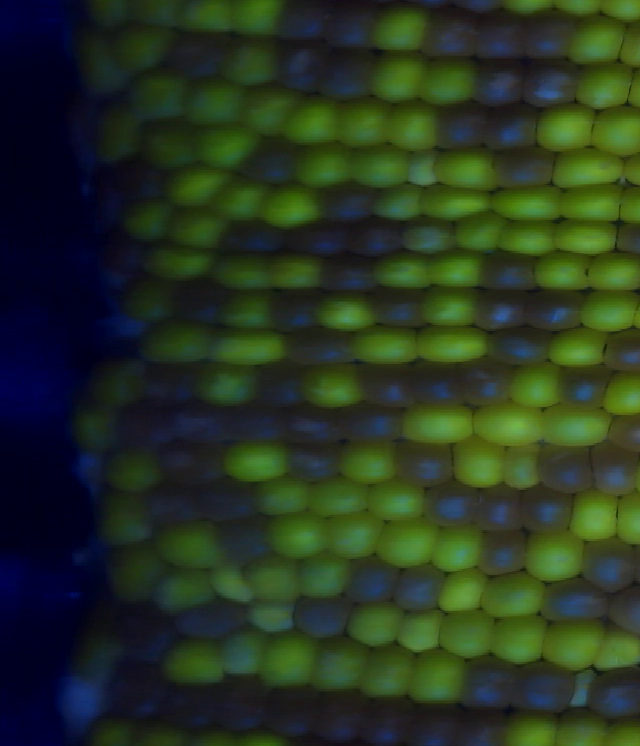fluorescent: (134, 321, 220, 366), (69, 24, 121, 98), (107, 538, 161, 605), (215, 36, 283, 88), (72, 607, 119, 681), (522, 526, 586, 580), (540, 403, 614, 449), (546, 149, 627, 190), (207, 328, 292, 367), (308, 637, 367, 693), (377, 515, 438, 569), (157, 519, 226, 566), (472, 406, 550, 447), (139, 245, 220, 284), (160, 163, 228, 209), (219, 441, 294, 482), (534, 104, 598, 152), (120, 193, 179, 245), (420, 55, 481, 105), (492, 610, 546, 666), (361, 644, 413, 702), (438, 610, 497, 661), (301, 363, 365, 410), (163, 639, 227, 686), (416, 324, 493, 363), (413, 645, 462, 706), (114, 25, 176, 73), (454, 431, 505, 489), (281, 96, 342, 144), (484, 572, 545, 620), (544, 618, 597, 673), (244, 85, 300, 137), (183, 78, 246, 124), (364, 478, 427, 524), (564, 489, 623, 538), (573, 62, 638, 106), (264, 629, 313, 687), (346, 597, 405, 645), (193, 124, 262, 165), (190, 365, 260, 405), (129, 71, 187, 119), (398, 405, 477, 440), (348, 144, 412, 187), (326, 512, 383, 560), (91, 109, 138, 167), (263, 184, 322, 230), (389, 99, 443, 149), (339, 98, 395, 146), (155, 571, 219, 613), (421, 286, 486, 327), (351, 326, 419, 365), (267, 515, 330, 557), (567, 17, 627, 61), (245, 554, 301, 601), (583, 248, 640, 294), (366, 56, 425, 100), (96, 492, 151, 539), (535, 249, 595, 292), (489, 185, 562, 220), (436, 567, 491, 613), (506, 362, 566, 404), (120, 281, 184, 320), (102, 452, 166, 491), (292, 554, 350, 597), (334, 441, 401, 478), (417, 184, 492, 217), (309, 476, 369, 517), (552, 217, 618, 254), (370, 8, 428, 50), (559, 185, 621, 224), (432, 150, 501, 185), (141, 123, 197, 166), (593, 105, 640, 156), (316, 293, 379, 331), (497, 218, 558, 257), (296, 143, 354, 184), (217, 291, 279, 329), (451, 209, 503, 254), (435, 526, 486, 571), (253, 477, 310, 517), (581, 291, 640, 329), (501, 705, 557, 745), (375, 253, 435, 289), (595, 624, 640, 672), (215, 252, 271, 290), (272, 252, 327, 290), (428, 251, 485, 287), (556, 705, 607, 745), (501, 443, 545, 489), (228, 1, 285, 36), (545, 330, 606, 362), (600, 369, 640, 417), (95, 363, 142, 403), (223, 181, 268, 221), (402, 611, 447, 651), (375, 184, 423, 221), (73, 408, 114, 449), (180, 1, 232, 32), (216, 564, 256, 604), (248, 602, 296, 632), (90, 715, 133, 746), (135, 720, 184, 746), (131, 1, 177, 27), (85, 1, 130, 27), (602, 716, 640, 746), (599, 1, 640, 23), (501, 1, 557, 15), (195, 729, 241, 746), (556, 1, 602, 15)
nonfluorescent: (509, 658, 572, 716), (118, 601, 177, 662), (458, 655, 522, 711), (579, 535, 639, 592), (394, 435, 461, 485), (534, 441, 595, 495), (106, 664, 165, 719), (262, 685, 322, 739), (586, 438, 640, 497), (540, 578, 612, 622), (174, 600, 255, 639), (516, 7, 573, 62), (214, 672, 265, 733), (313, 688, 366, 746), (419, 8, 480, 58), (432, 101, 493, 151), (139, 356, 205, 402), (393, 559, 449, 613), (525, 286, 593, 330), (585, 667, 640, 721), (322, 48, 378, 101), (280, 327, 360, 364), (484, 103, 544, 152), (144, 478, 205, 525), (115, 398, 170, 450), (219, 514, 274, 566), (357, 695, 413, 746), (161, 679, 217, 730), (406, 696, 462, 746), (152, 438, 217, 481), (295, 594, 355, 640), (477, 481, 530, 533), (486, 325, 553, 366), (202, 476, 263, 521), (477, 250, 542, 292), (367, 285, 432, 327), (252, 360, 311, 406), (519, 62, 579, 107), (354, 361, 415, 405), (412, 358, 470, 404), (424, 480, 482, 526), (493, 146, 555, 189), (473, 10, 526, 60), (279, 402, 339, 446), (277, 44, 327, 95), (522, 482, 572, 533), (471, 289, 531, 331), (168, 401, 228, 443), (334, 405, 406, 440), (169, 33, 226, 77), (173, 276, 225, 324), (223, 403, 287, 442), (269, 285, 323, 331), (473, 62, 529, 106), (245, 135, 296, 183), (344, 560, 399, 604), (348, 215, 407, 256), (477, 529, 527, 577), (558, 364, 610, 410), (462, 359, 516, 402), (283, 442, 342, 481), (111, 158, 164, 201), (326, 8, 379, 50), (286, 222, 349, 257), (319, 181, 373, 221), (320, 255, 380, 291), (453, 708, 509, 746), (221, 219, 285, 252), (272, 8, 334, 41), (601, 325, 640, 371), (609, 584, 640, 637), (104, 232, 142, 273), (606, 411, 640, 454), (451, 1, 508, 15), (413, 1, 448, 12)
